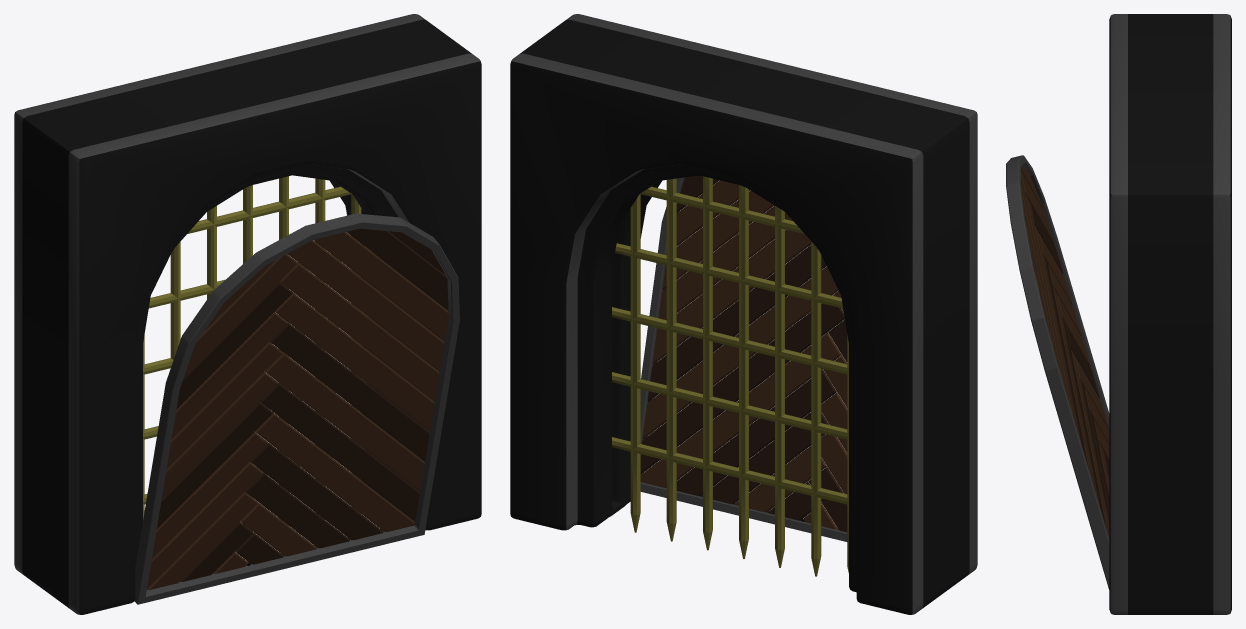
File: Vorota.FBX
3 renders of one model, left to right at view 1: azimuth 30°, elevation 25°; view 2: azimuth 150°, elevation 25°; view 3: azimuth 270°, elevation 25°, orthographic. The views are drawn at different scales.
Visible parts, largest first — view 1: Арка для ворот, Переправа, Решетка; view 2: Арка для ворот, Переправа, Решетка; view 3: Арка для ворот, Переправа.
Boxes of the visible parts, <box> form: Арка для ворот: <box>14,14,481,614</box>; Переправа: <box>134,213,459,604</box>; Решетка: <box>143,176,372,531</box>; Арка для ворот: <box>510,14,977,614</box>; Переправа: <box>640,175,847,541</box>; Решетка: <box>612,176,848,576</box>; Арка для ворот: <box>1109,14,1231,614</box>; Переправа: <box>1006,155,1109,589</box>.
Size of the model in its own units: 523 by 585 by 275.
